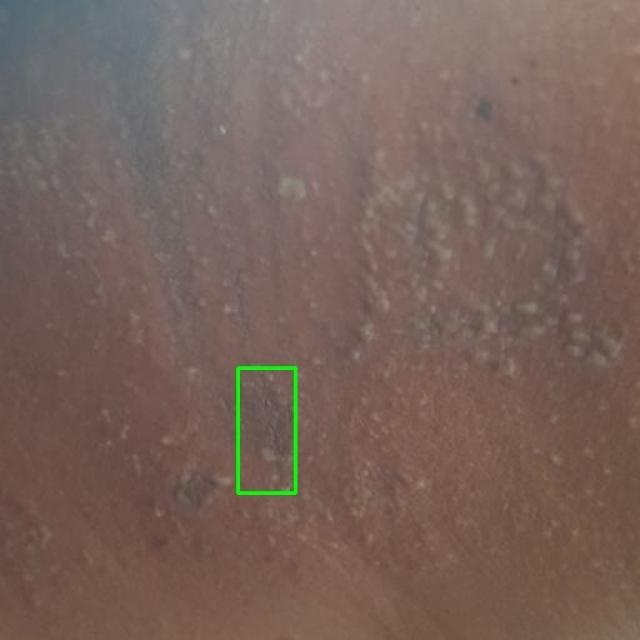Contact Dermatitis: (238, 368, 295, 492)
